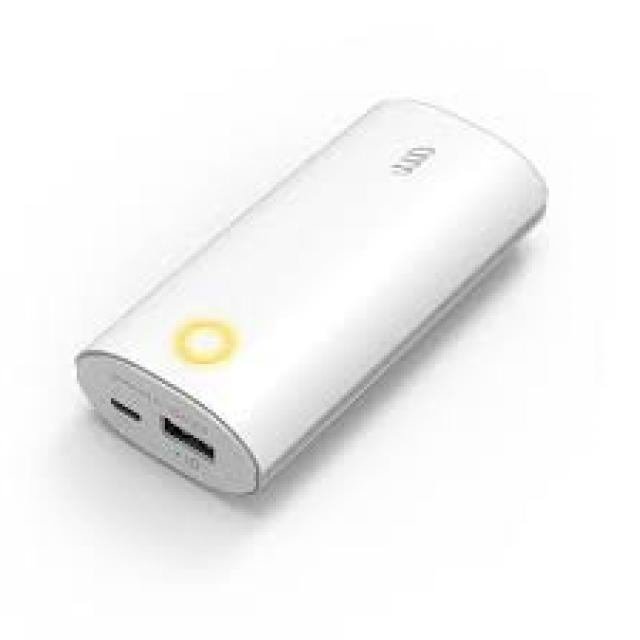battery: (76, 96, 548, 493)
